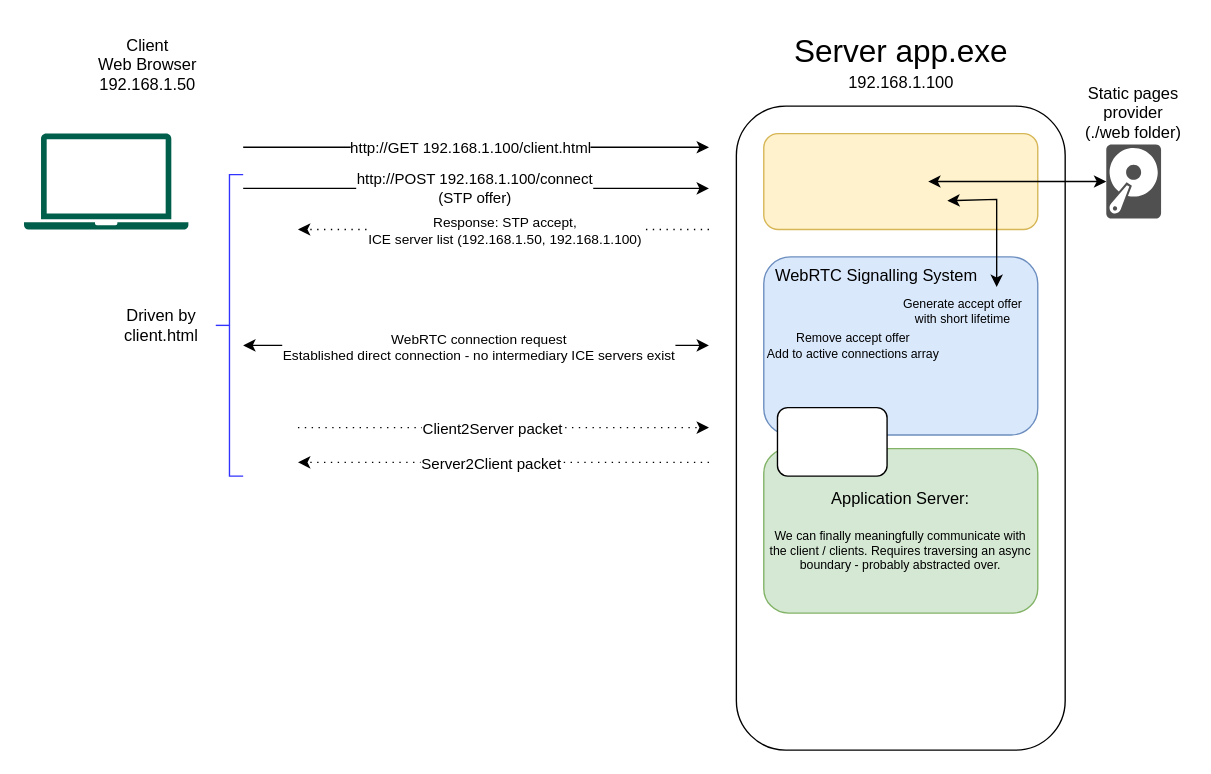
Image size: 1211x774. Some labels were removed from this diagram. The shapes that lost their labels are listed below. From the top down, each one's centre as x and y in pixels, then its label:
At (x=900, y=180): "Webserver (axum) /* /connect".
At (x=831, y=441): "WebRTC peer Connection listener async (tokio)".
